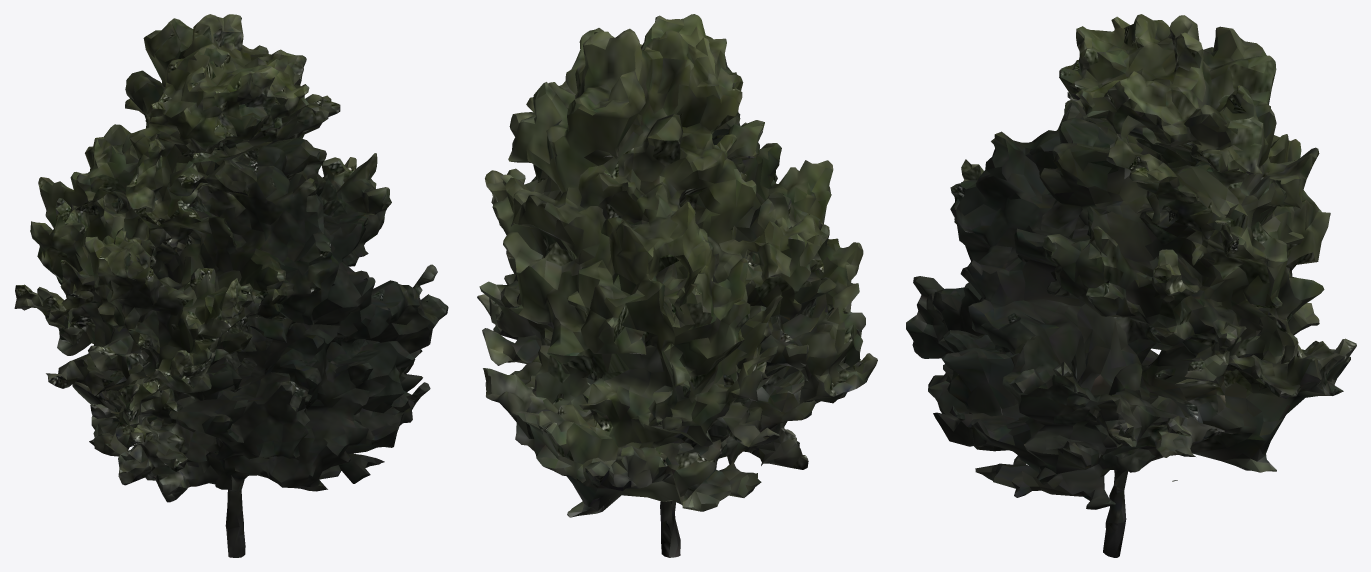
Rendered from tree.glb.
3 renders of one model, left to right at view 1: azimuth 30°, elevation 25°; view 2: azimuth 150°, elevation 25°; view 3: azimuth 270°, elevation 25°, orthographic. The views are drawn at different scales.
Visible parts, largest first — view 1: Object_13, Object_18, Object_5, Object_6, Object_3, Object_14, Object_17, Object_16, Object_2, Object_4; view 2: Object_5, Object_18, Object_6, Object_2, Object_3, Object_13, Object_14, Object_16, Object_11, Object_4, Object_7, Object_9 (+2 smaller); view 3: Object_2, Object_3, Object_18, Object_6, Object_13, Object_14, Object_17, Object_5, Object_10, Object_16, Object_11, Object_4 (+2 smaller).
Part boxes in pixels (x1,y1,x2,y2): Object_13: (14, 14, 420, 543); Object_18: (31, 14, 430, 546); Object_5: (30, 22, 370, 557); Object_6: (45, 20, 437, 489); Object_3: (41, 14, 432, 525); Object_14: (15, 31, 425, 487); Object_17: (47, 32, 430, 492); Object_16: (55, 26, 448, 557); Object_2: (49, 24, 428, 555); Object_4: (37, 56, 408, 493); Object_5: (483, 14, 877, 557); Object_18: (478, 26, 860, 494); Object_6: (479, 15, 864, 531); Object_2: (486, 32, 872, 540); Object_3: (482, 28, 867, 510); Object_13: (496, 18, 860, 557); Object_14: (563, 115, 861, 515); Object_16: (523, 116, 842, 550); Object_11: (477, 16, 849, 557); Object_4: (492, 111, 865, 516); Object_7: (594, 87, 823, 466); Object_9: (506, 137, 842, 505); Object_2: (911, 17, 1350, 557); Object_3: (910, 15, 1356, 523); Object_18: (928, 14, 1350, 546); Object_6: (906, 27, 1323, 488); Object_13: (907, 17, 1344, 533); Object_14: (943, 26, 1269, 476); Object_17: (932, 36, 1311, 480); Object_5: (931, 26, 1356, 442); Object_10: (950, 60, 1275, 413); Object_16: (961, 28, 1227, 554); Object_11: (950, 49, 1337, 557); Object_4: (953, 17, 1356, 502).
Bounding box in the file's own units: 2.79 × 4.15 × 3.13.
17 materials, 17 textured.
